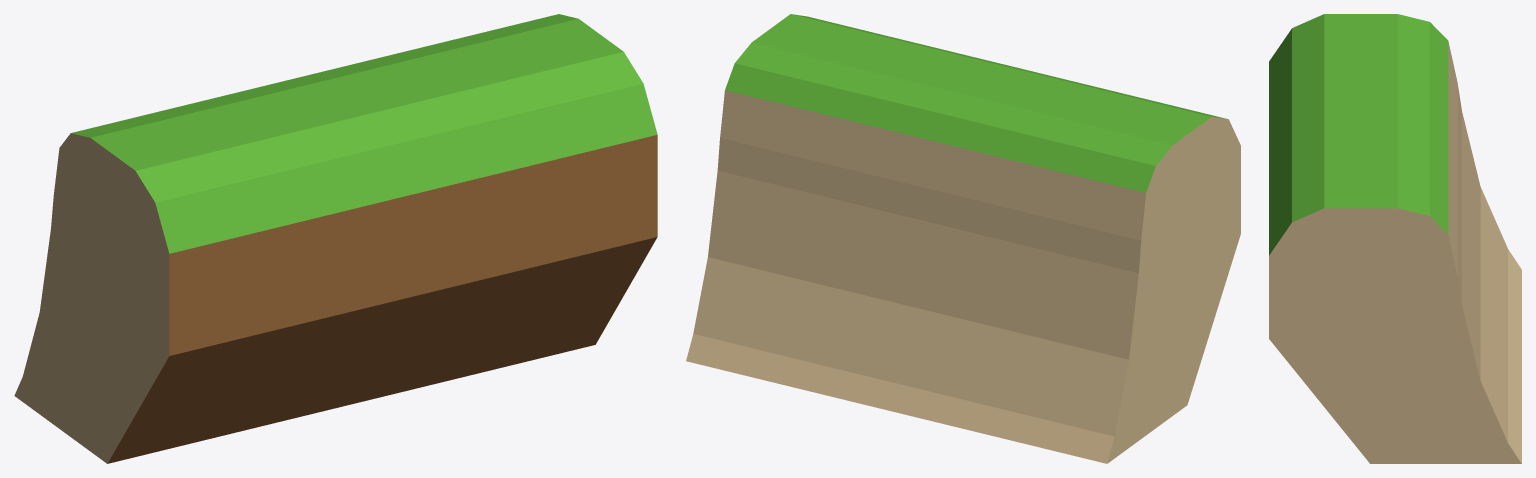
File: margem-reta.glb
3 views of the same model, side by side, from view 1: azimuth 30°, elevation 25°; view 2: azimuth 150°, elevation 25°; view 3: azimuth 270°, elevation 25° (orthographic). The views are drawn at different scales.
Parts seen in each view (by area): view 1: MargemReta; view 2: MargemReta; view 3: MargemReta.
Boxes of the visible parts, x1=… form: MargemReta: x1=14, y1=14, x2=657, y2=463; MargemReta: x1=686, y1=14, x2=1240, y2=463; MargemReta: x1=1269, y1=14, x2=1521, y2=463.
Size of the model in its own units: 1 by 0.614 by 0.55.
